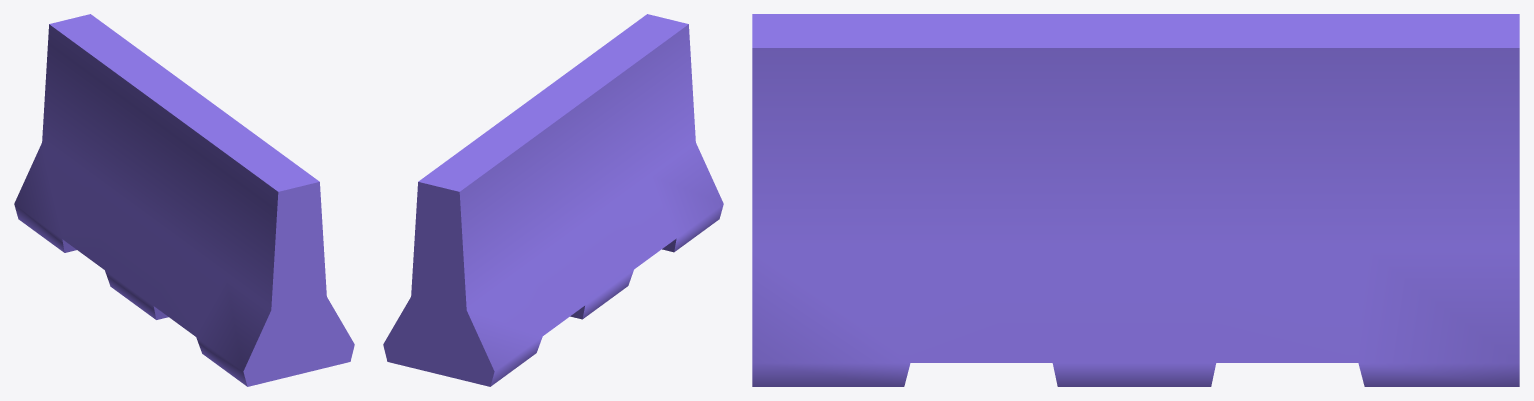
Rendered from ADML_Rock2.fbx.
The picture shows the model from 3 angles, left to right: view 1: azimuth 30°, elevation 25°; view 2: azimuth 150°, elevation 25°; view 3: azimuth 270°, elevation 25°; orthographic projection. The views are drawn at different scales.
Visible parts, largest first — view 1: ADML_Barricade; view 2: ADML_Barricade; view 3: ADML_Barricade.
Boxes of the visible parts, x1,y1,x2,y2 form: ADML_Barricade: [14, 14, 354, 386]; ADML_Barricade: [383, 14, 723, 386]; ADML_Barricade: [752, 14, 1519, 386].
Bounding box in the file's own units: 23.37 × 83.27 × 37.6.
